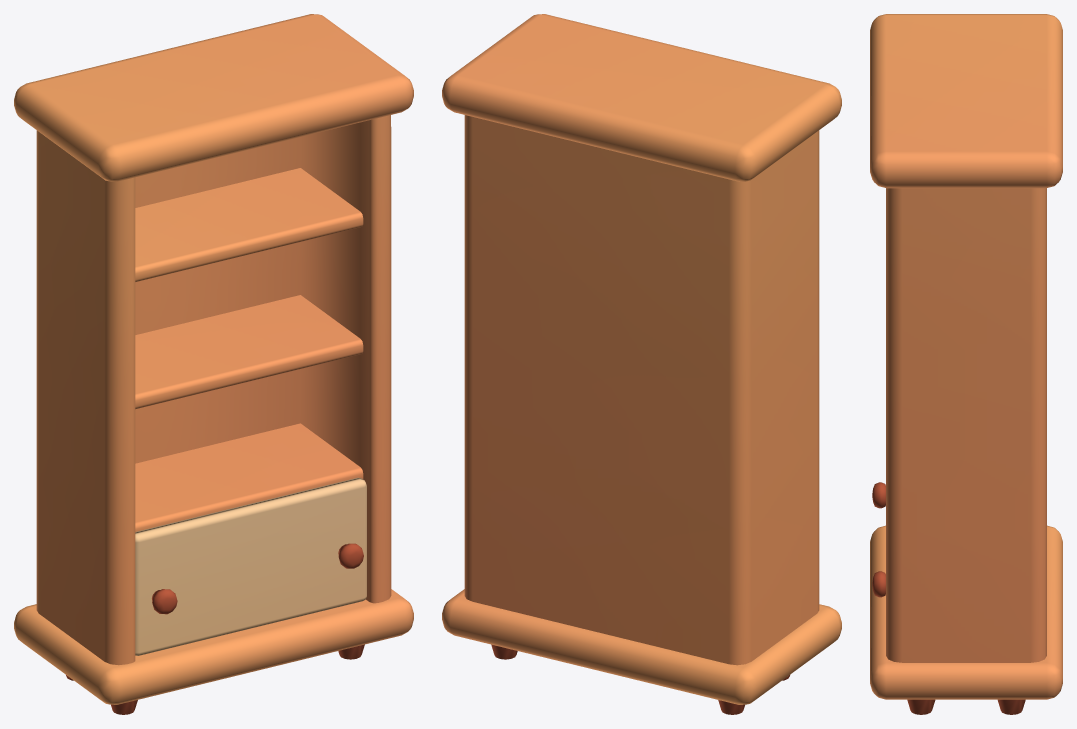
File: closet-01.glb
The picture shows the model from 3 angles, left to right: view 1: azimuth 30°, elevation 25°; view 2: azimuth 150°, elevation 25°; view 3: azimuth 270°, elevation 25°; orthographic projection. The views are drawn at different scales.
Visible parts, largest first — view 1: Closet_01, Closet_01_Door; view 2: Closet_01; view 3: Closet_01, Closet_01_Door.
Boxes of the visible parts, bbox=[...] form: Closet_01: bbox=[14, 14, 413, 714]; Closet_01_Door: bbox=[135, 477, 366, 655]; Closet_01: bbox=[442, 14, 841, 714]; Closet_01: bbox=[870, 14, 1062, 714]; Closet_01_Door: bbox=[872, 482, 885, 597].
Size of the model in its own units: 0.88 by 1.58 by 0.48.
Materials: 1 (1 with a texture image).
